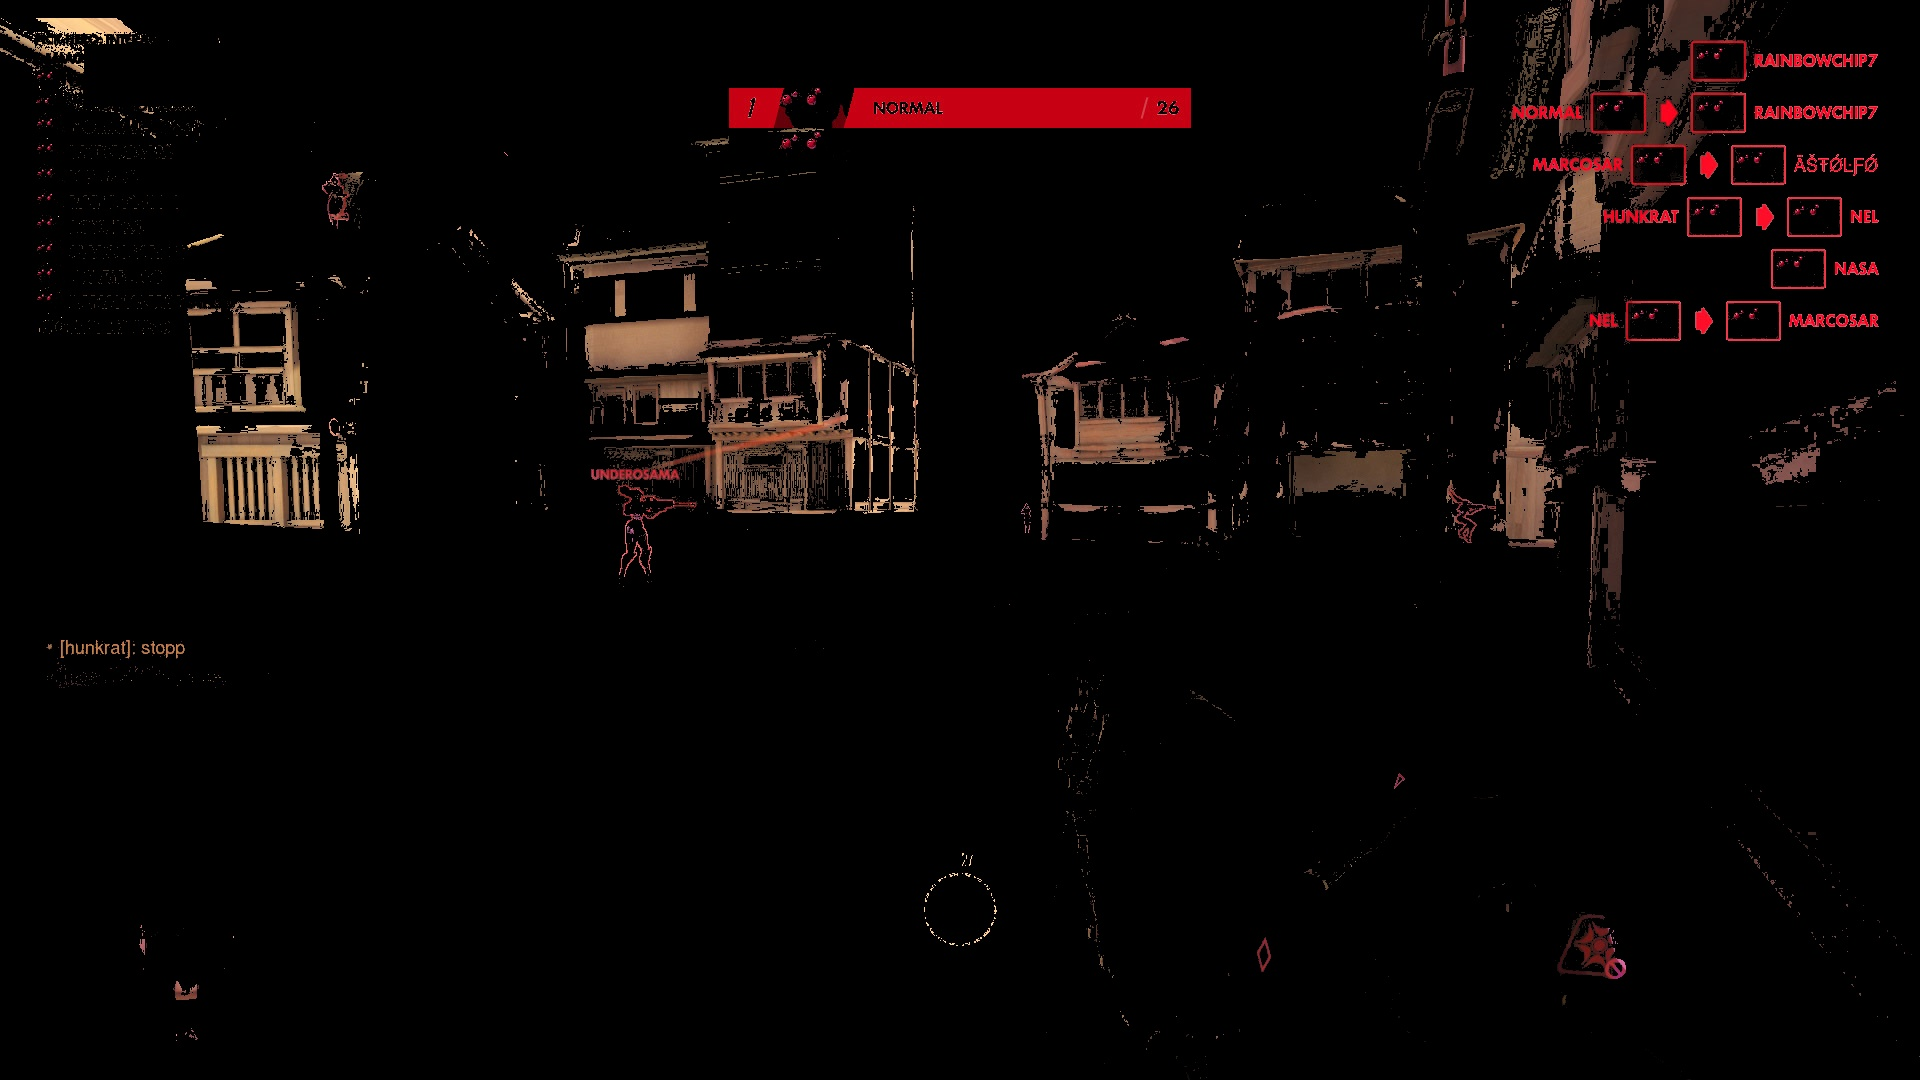widowmaker: (612, 484, 694, 589), (1452, 496, 1494, 549), (319, 173, 353, 233), (1017, 501, 1040, 539)
